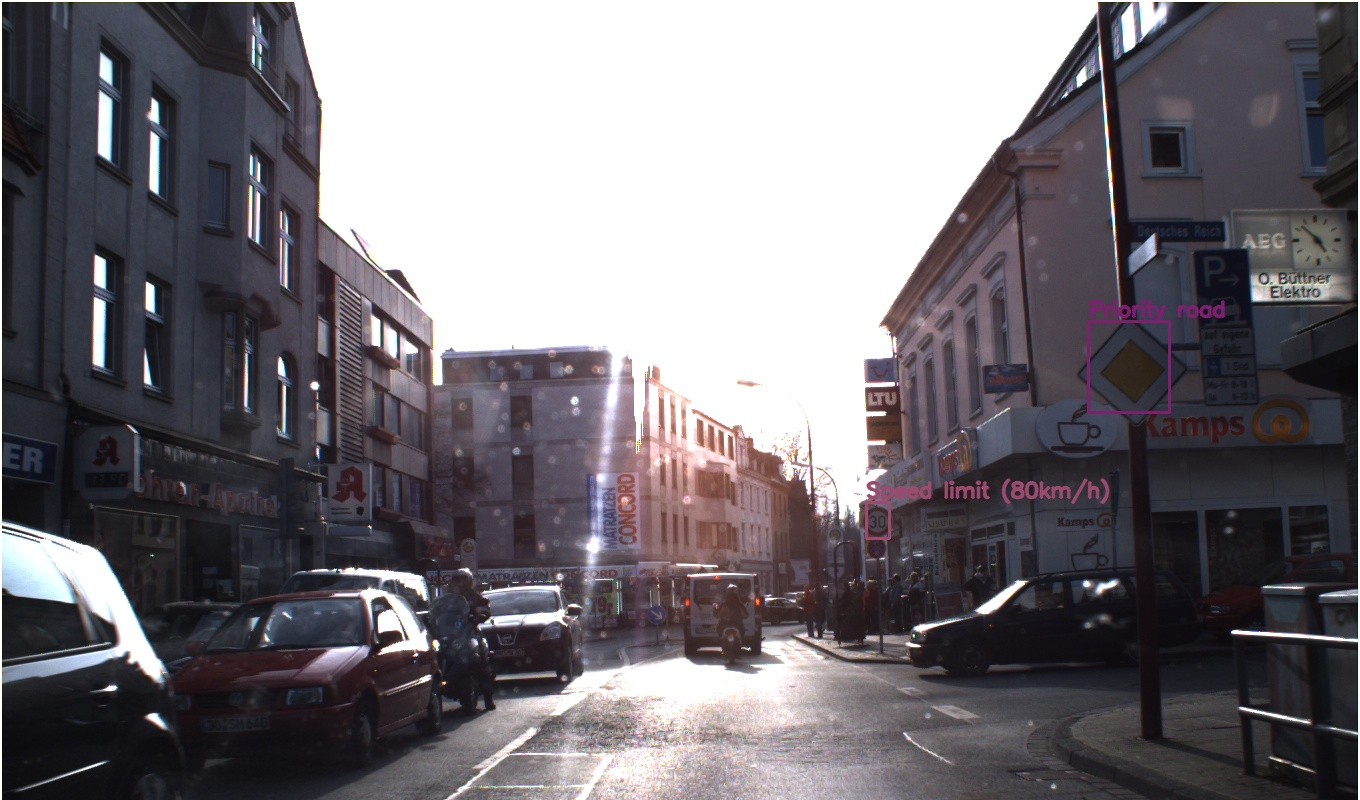Speed limit (50km/h): (850, 414, 875, 440)
